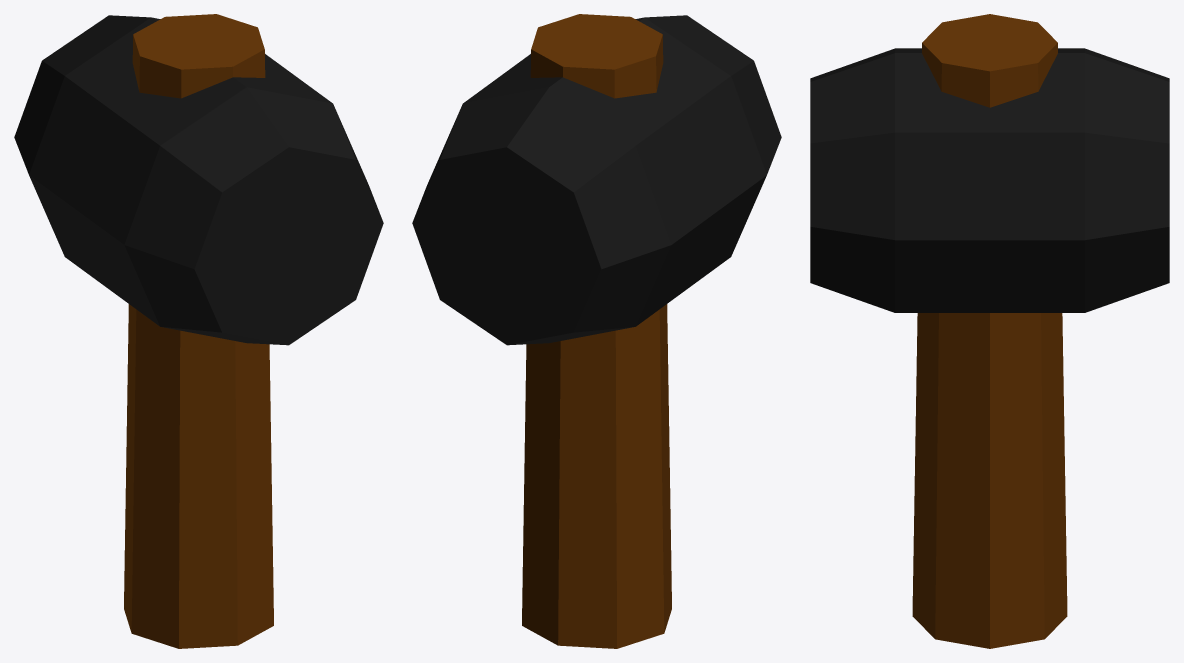
File: m_hammer.fbx
The picture shows the model from 3 angles, left to right: view 1: azimuth 30°, elevation 25°; view 2: azimuth 150°, elevation 25°; view 3: azimuth 270°, elevation 25°; orthographic projection.
Visible parts, largest first — view 1: HammerHead, Hammerhandle; view 2: HammerHead, Hammerhandle; view 3: HammerHead, Hammerhandle.
Part boxes in pixels (box(x1,y1,x2,y2)): HammerHead: box(14, 15, 383, 345); Hammerhandle: box(124, 14, 273, 648); HammerHead: box(412, 15, 781, 345); Hammerhandle: box(522, 14, 671, 648); HammerHead: box(810, 48, 1169, 312); Hammerhandle: box(912, 14, 1067, 648).
Bounding box in the file's own units: 33.53 × 75.36 × 42.79.
